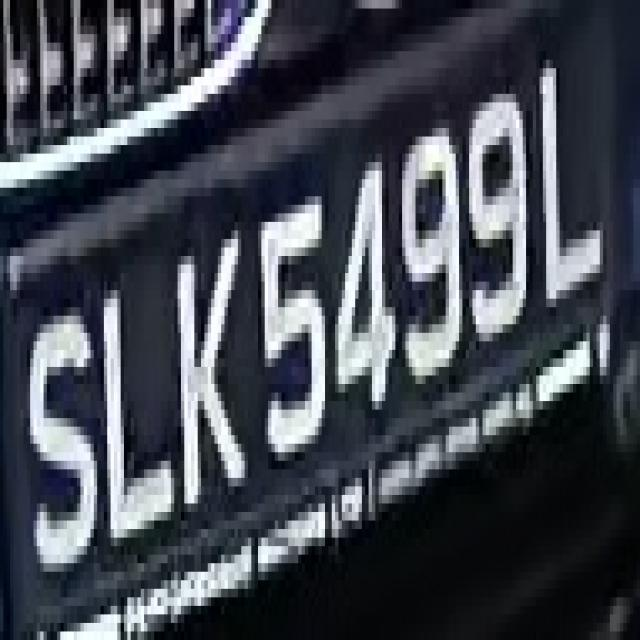4: (325, 145, 402, 444)
5: (258, 205, 335, 495)
9: (399, 102, 466, 436), (459, 77, 536, 367)
K: (171, 214, 258, 520)
L: (530, 43, 616, 324), (101, 265, 174, 563)
S: (20, 299, 97, 614)
